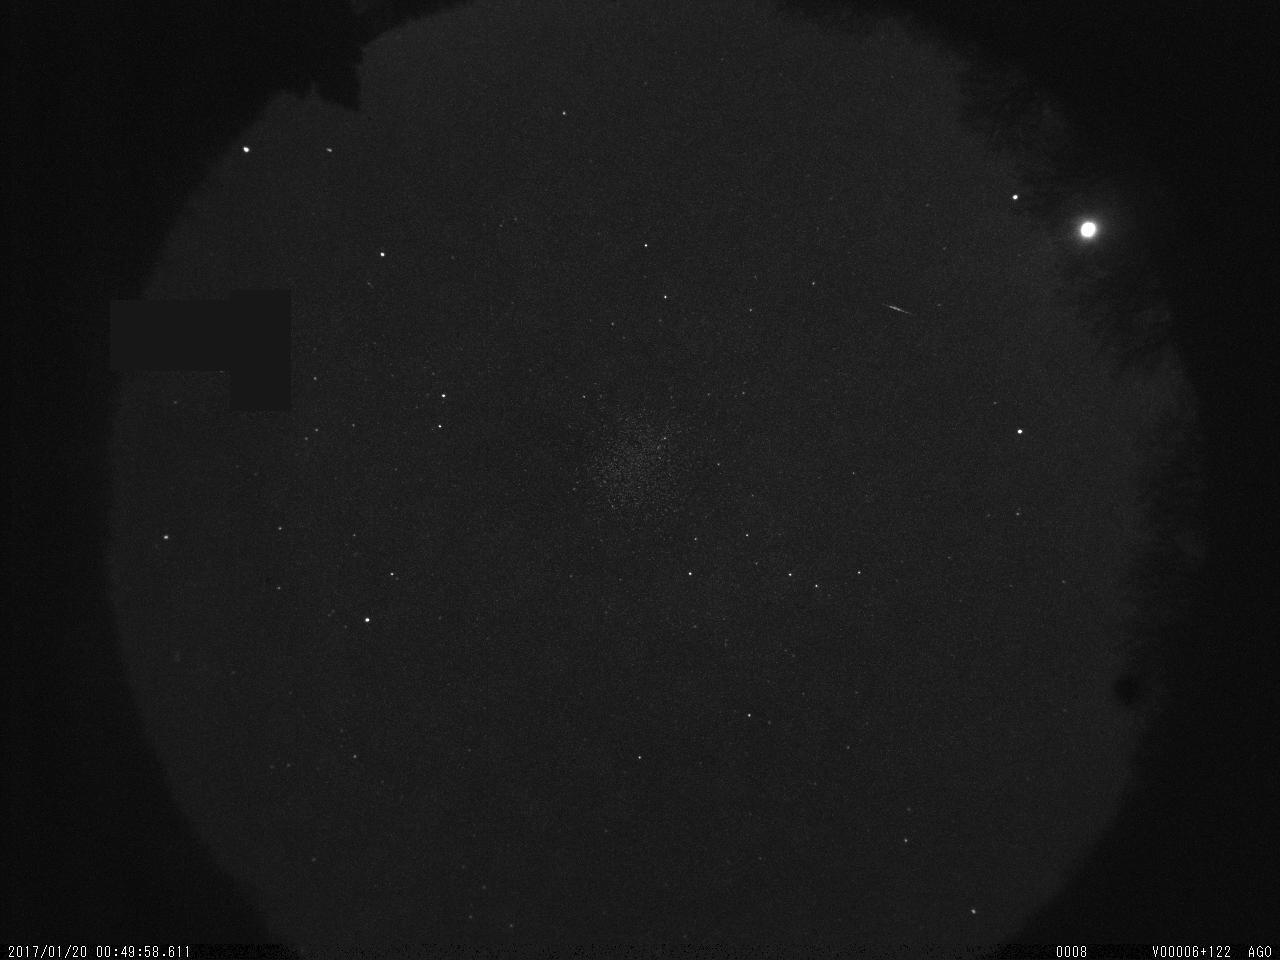Meteor: (872, 294, 919, 325)
